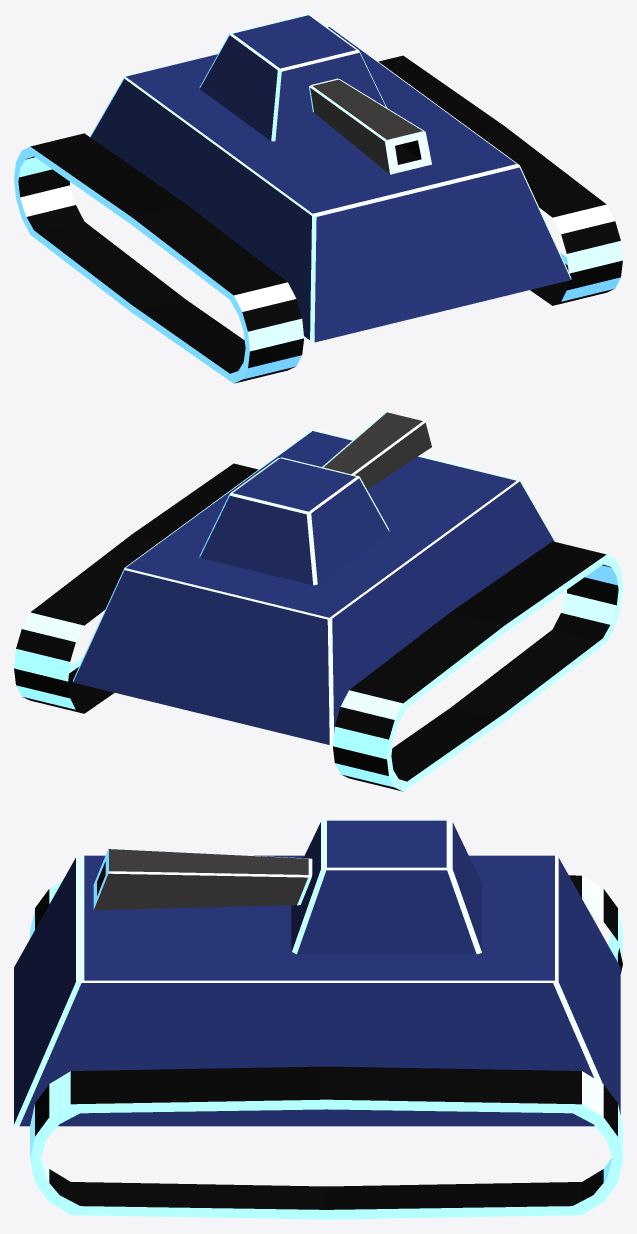
File: tank.glb
3 views of the same model, one above another, from view 1: azimuth 30°, elevation 25°; view 2: azimuth 150°, elevation 25°; view 3: azimuth 270°, elevation 25° (orthographic). The views are drawn at different scales.
Visible parts, largest first — view 1: Cube, Circle; view 2: Cube, Circle; view 3: Cube, Circle.
Part boxes in pixels (x1=…): Cube: x1=90, y1=14, x2=571, y2=342; Circle: x1=14, y1=55, x2=622, y2=383; Cube: x1=73, y1=412, x2=555, y2=744; Circle: x1=14, y1=463, x2=622, y2=791; Cube: x1=14, y1=820, x2=620, y2=1126; Circle: x1=30, y1=875, x2=622, y2=1219.
Size of the model in its own units: 0.7665 by 0.4083 by 0.8627.
Materials: 4 (1 with a texture image).
